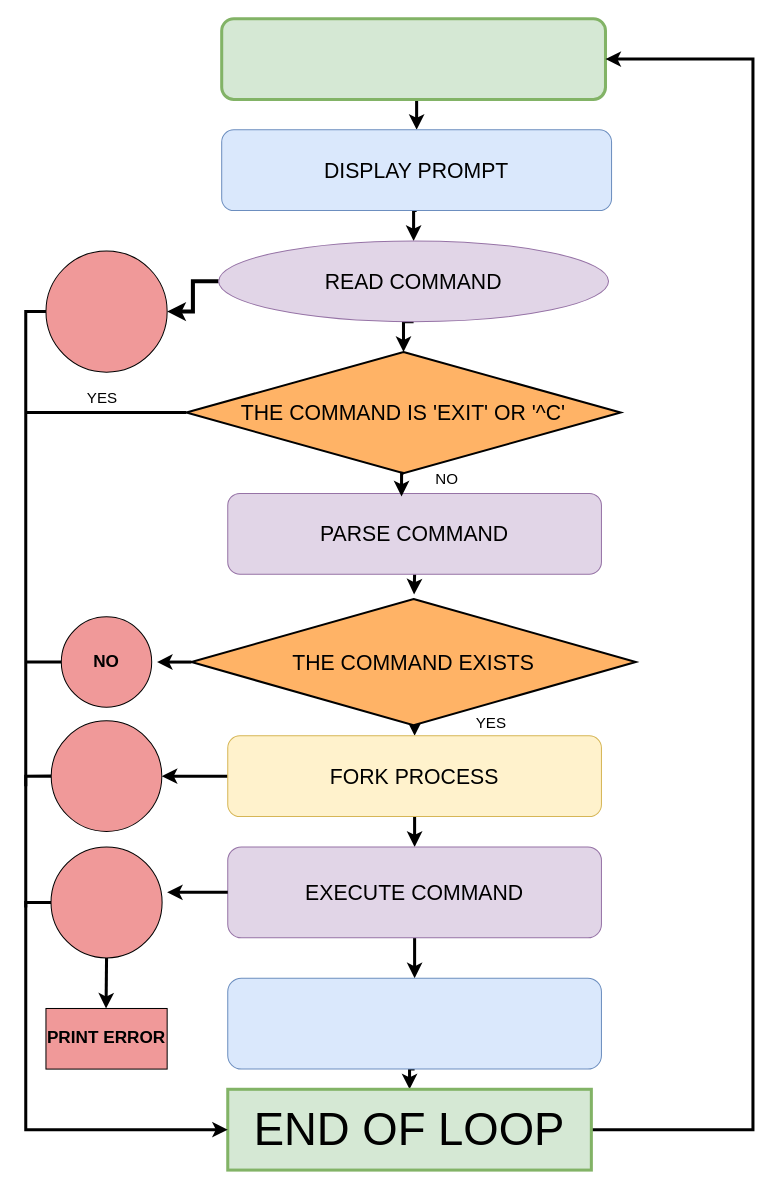
Image size: 780x1189. Some labels were removed from this diagram. The box of each missing label's shape, as (x1, y1, x2, y2) in pixels:
EXECUTION FAILS: (50, 846, 162, 958)
FORK FAILS: (50, 720, 162, 831)
READ FAILS: (45, 250, 167, 372)
START: (220, 17, 607, 100)
WAIT FOR PROCESS: (227, 977, 601, 1069)
